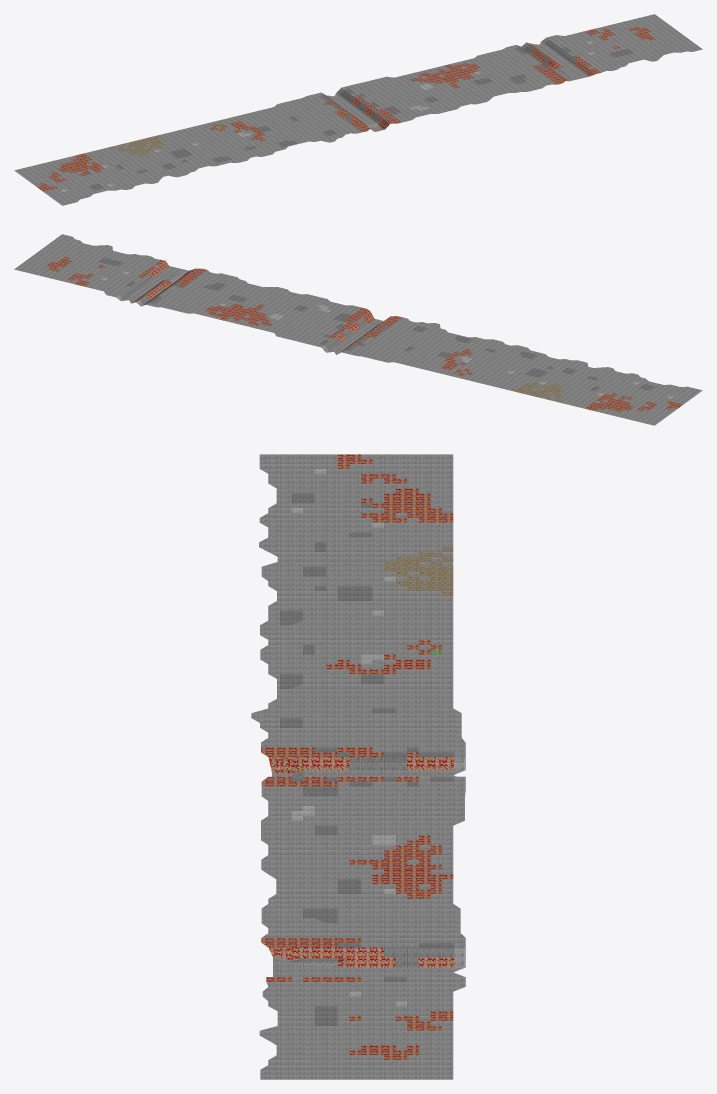
File: WallFar.obj
3 views of the same model, one above another, from view 1: azimuth 30°, elevation 25°; view 2: azimuth 150°, elevation 25°; view 3: azimuth 270°, elevation 25° (orthographic). The views are drawn at different scales.
Visible parts, largest first — view 1: WallFar; view 2: WallFar; view 3: WallFar.
Boxes of the visible parts, x1,y1,x2,y2 form: WallFar: [14, 14, 702, 205]; WallFar: [14, 234, 702, 425]; WallFar: [251, 454, 465, 1079].
Size of the model in its own units: 128 by 1.06 by 18.56.
